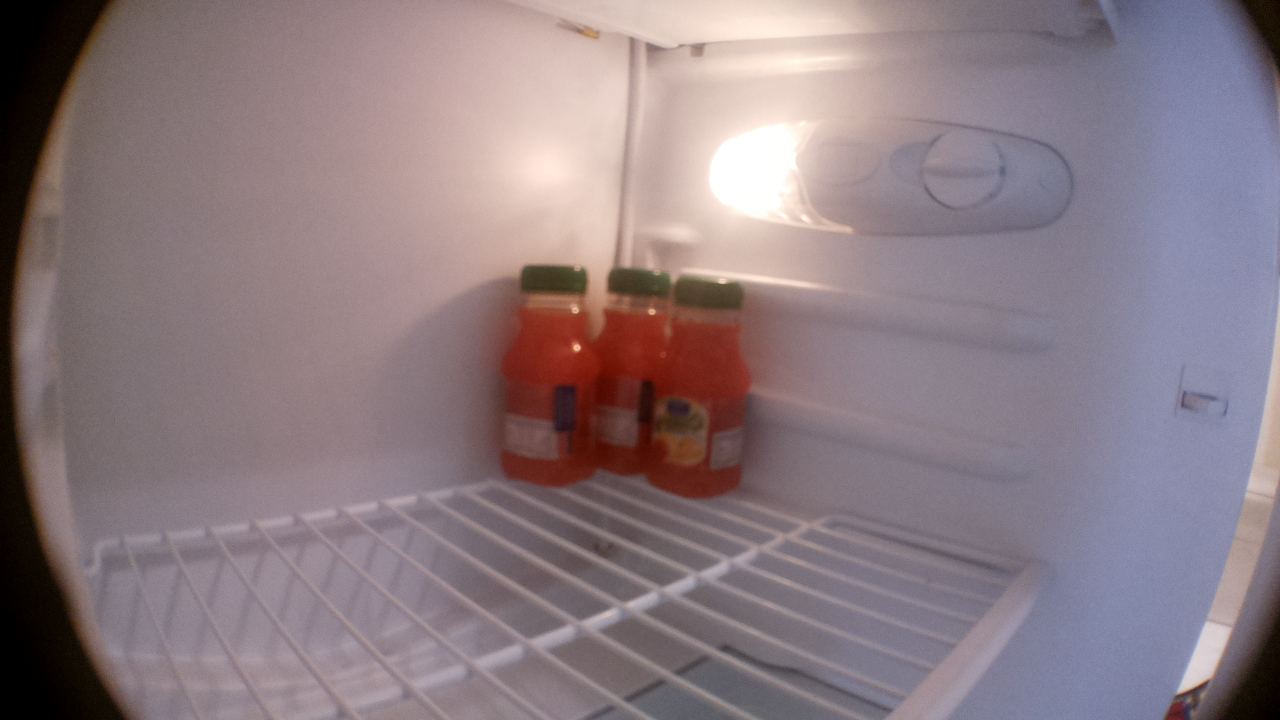juice: (641, 275, 760, 502), (498, 259, 593, 492), (594, 265, 662, 484)
